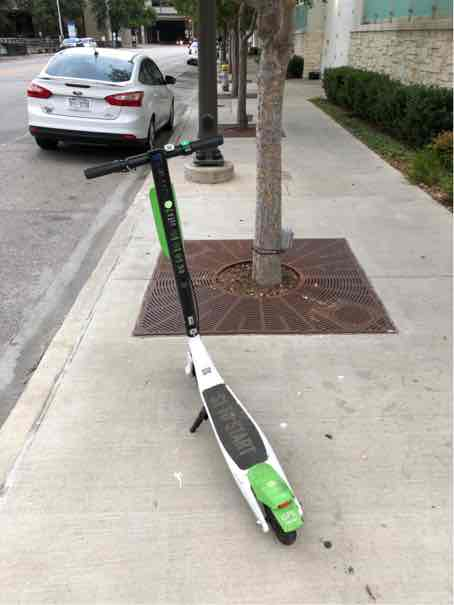scooter: (71, 126, 327, 542)
